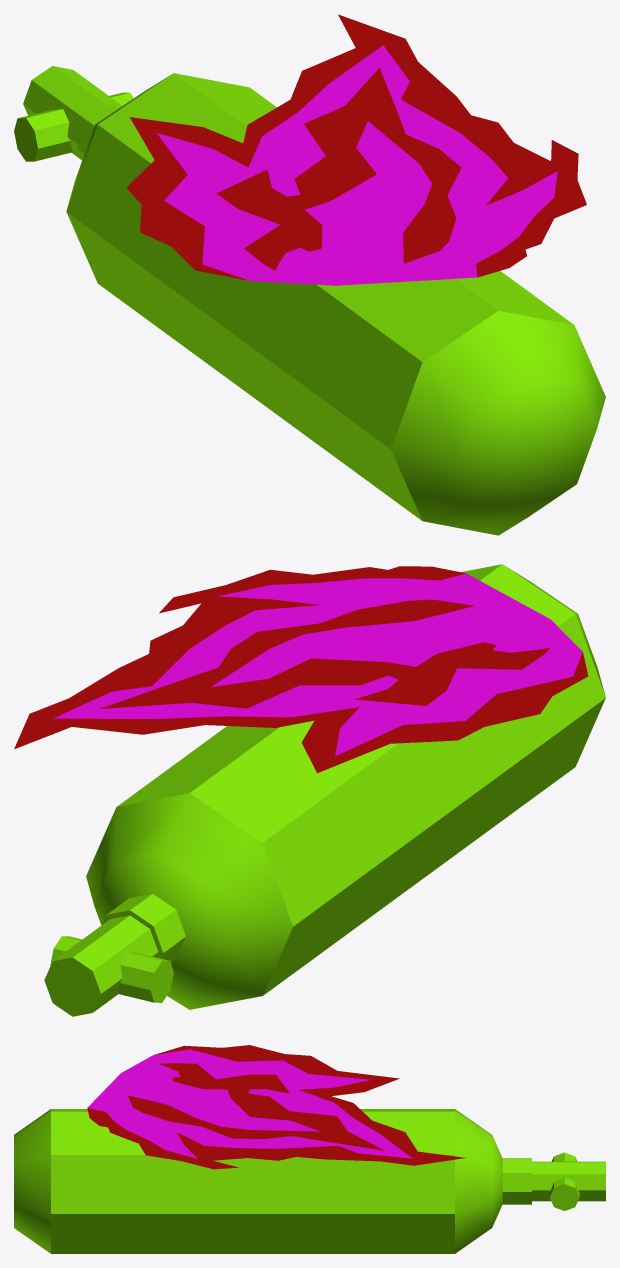
Rendered from GJ_Pickup_Boost_Canister_HL_02-08-2019_v1.fbx.
The picture shows the model from 3 angles, top to bottom: view 1: azimuth 30°, elevation 25°; view 2: azimuth 150°, elevation 25°; view 3: azimuth 270°, elevation 25°; orthographic projection. The views are drawn at different scales.
Parts seen in each view (by area): view 1: Gas_tank_and_Fire_booster; view 2: Gas_tank_and_Fire_booster; view 3: Gas_tank_and_Fire_booster.
Boxes of the visible parts, x1=… form: Gas_tank_and_Fire_booster: x1=14, y1=14, x2=605, y2=535; Gas_tank_and_Fire_booster: x1=14, y1=564, x2=605, y2=1016; Gas_tank_and_Fire_booster: x1=14, y1=1045, x2=605, y2=1253.
Size of the model in its own units: 258 by 141 by 519.
